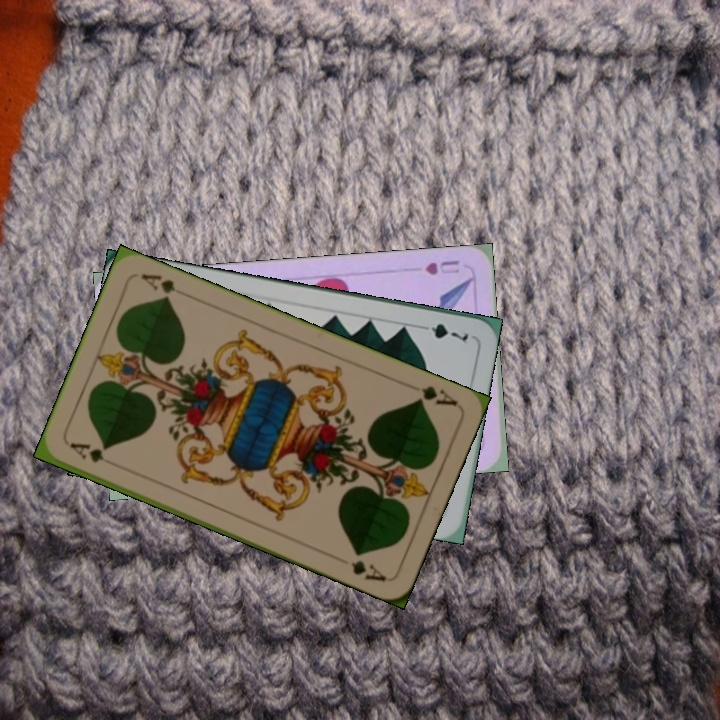G7: (414, 319, 471, 346)
GA: (410, 381, 460, 409), (65, 438, 107, 465)
HU: (421, 256, 462, 278)
